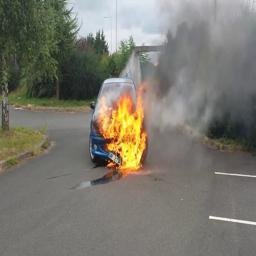fire: (98, 82, 147, 170)
